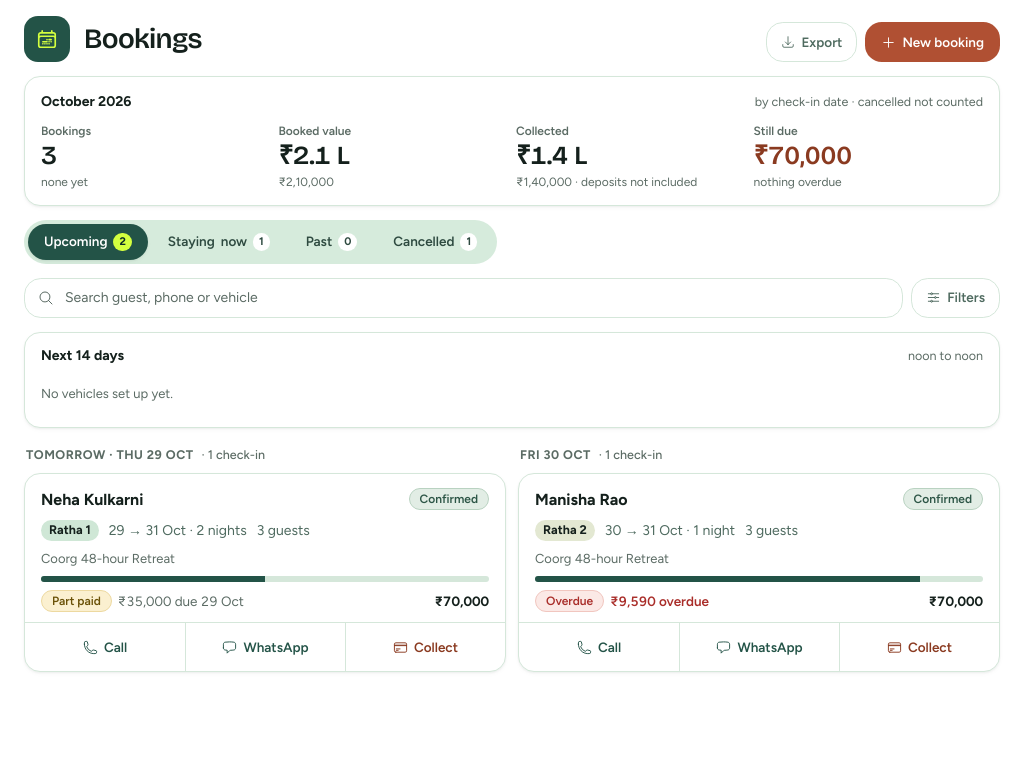
Scenario: Bookings cards by date › the Filters sheet narrows the list
This screenshot has width=1024, height=768.
Expected: the button with aria-label "Open Neha Kulkarni" is shown, [25,474,505,622]
Click the button "Filters" at (956, 298), box [911,278,1000,318]
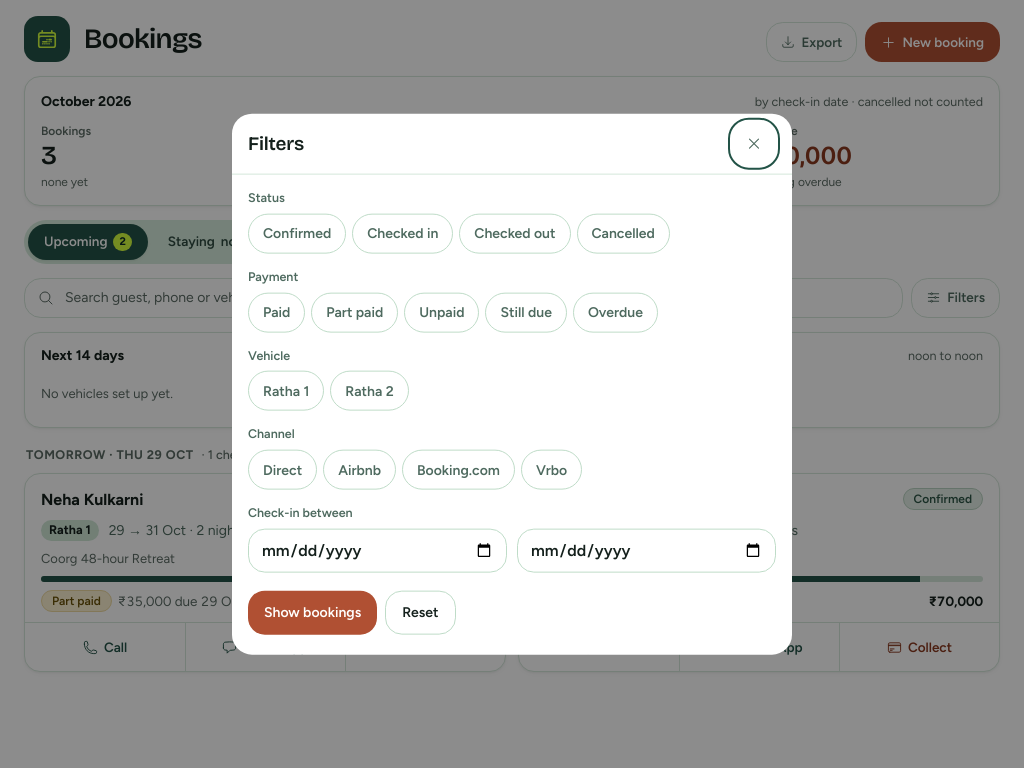
Click the button "Ratha 2" at (370, 391), box [330,371,409,411]
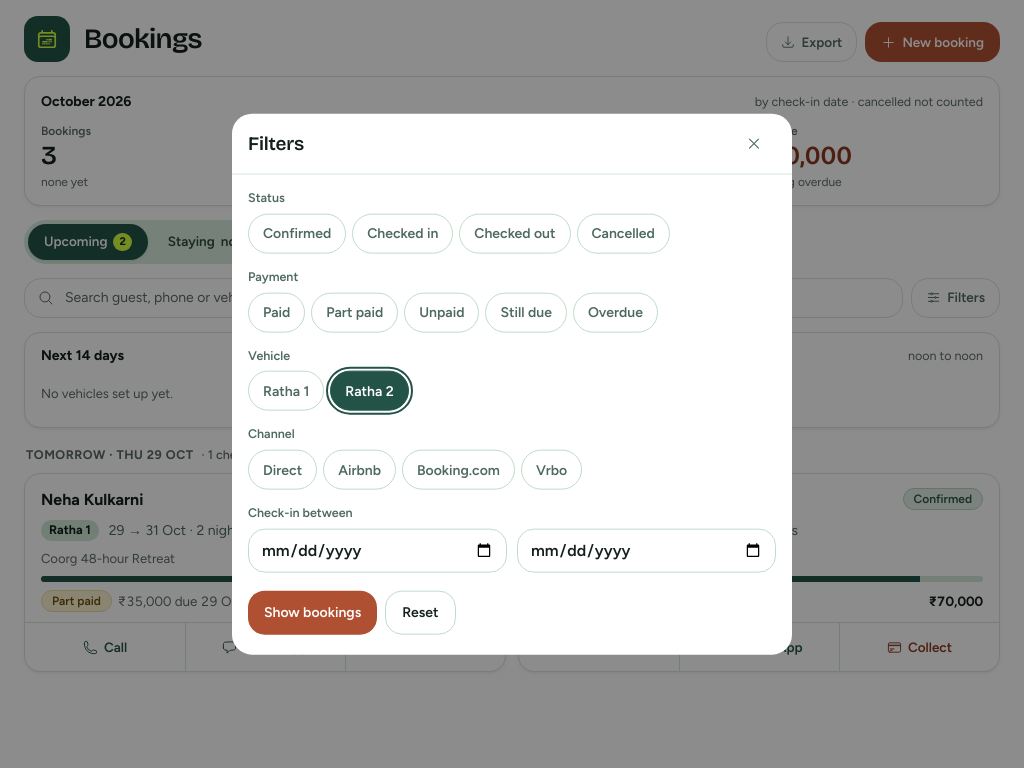
Click the button "Show bookings" at (313, 612), box [248,590,377,634]
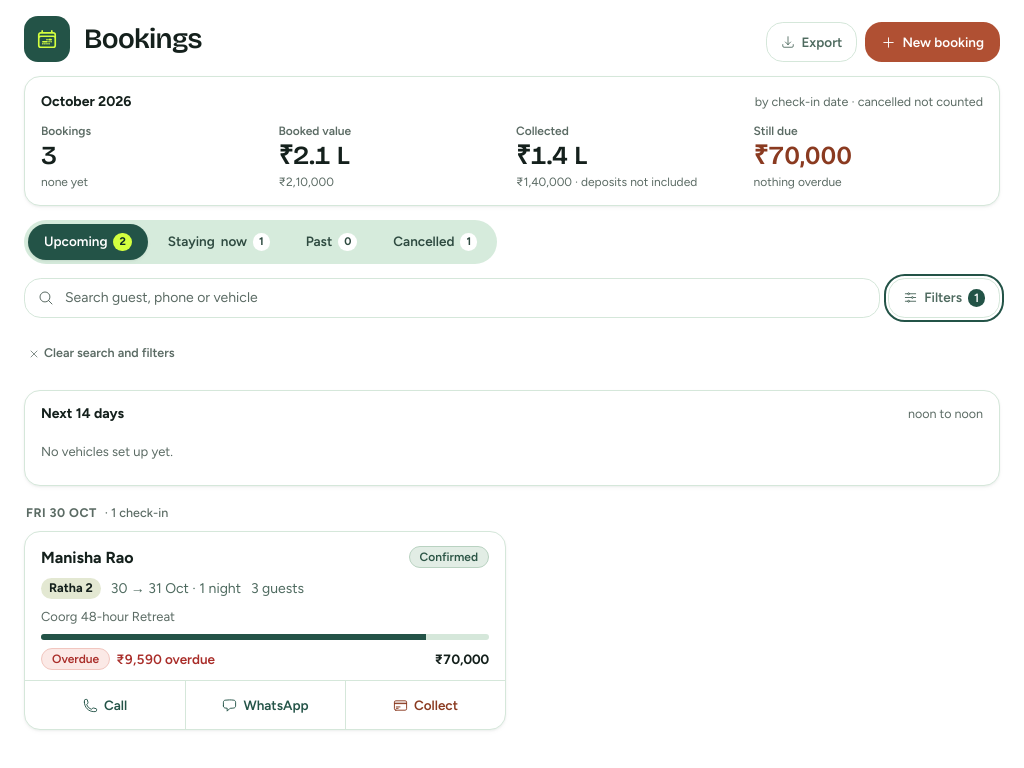
Expected: the button with aria-label "Open Manisha Rao" is shown, [25,532,505,680]
Expected: the button with aria-label "Filters, 1 on" is shown, [888,278,1000,318]
